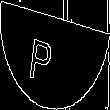P_N: (41, 26, 69, 84)
